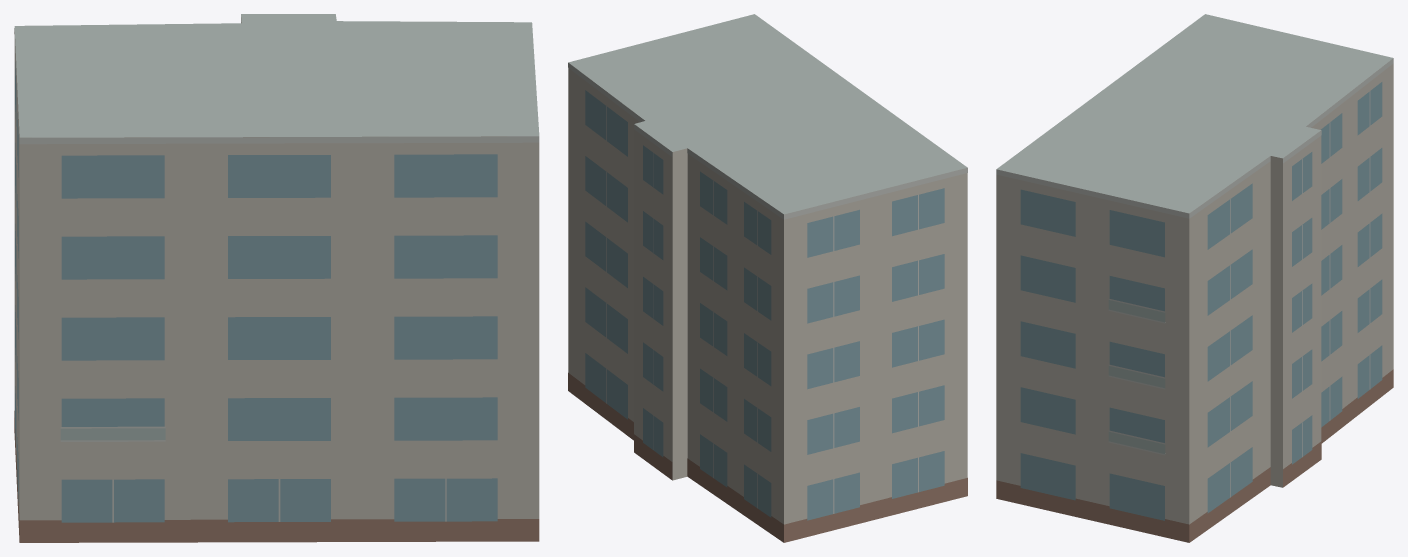
Rendered from survey-upis-32759074.glb.
The picture shows the model from 3 angles, left to right: view 1: azimuth 30°, elevation 25°; view 2: azimuth 150°, elevation 25°; view 3: azimuth 270°, elevation 25°; orthographic projection. The views are drawn at different scales.
Visible parts, largest first — view 1: survey-upis-32759074.tmp; view 2: survey-upis-32759074.tmp; view 3: survey-upis-32759074.tmp.
Part boxes in pixels (x1,y1,x2,y2): survey-upis-32759074.tmp: [14, 14, 539, 542]; survey-upis-32759074.tmp: [568, 14, 967, 542]; survey-upis-32759074.tmp: [996, 14, 1393, 542].
Size of the model in its own units: 19.81 by 15.25 by 16.68.
